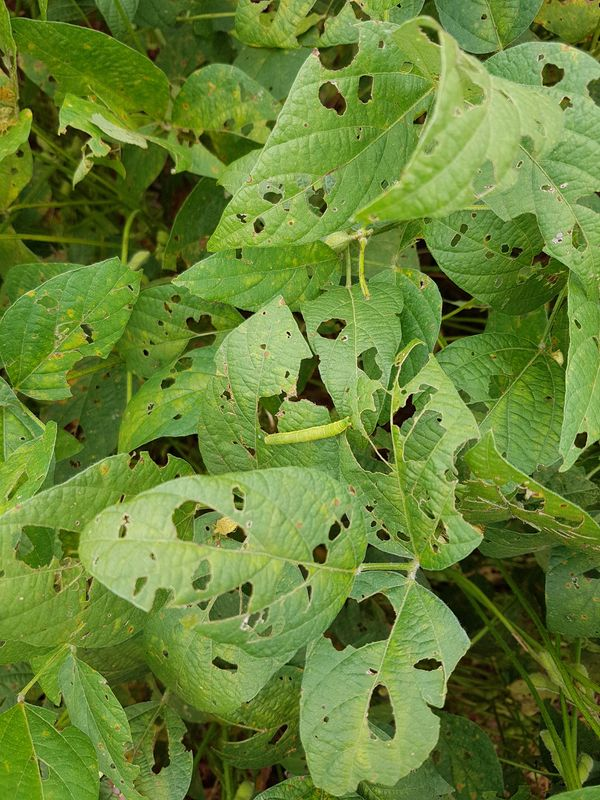Anticarsia_gemmatalis: (255, 412, 358, 456)
Euschistus_heros_ninfa: (206, 511, 246, 545)
